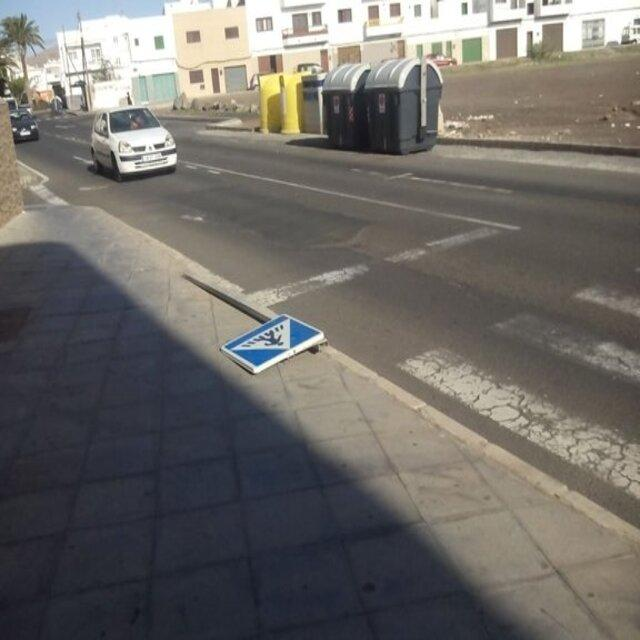Inclined Pole: (176, 268, 340, 388)
